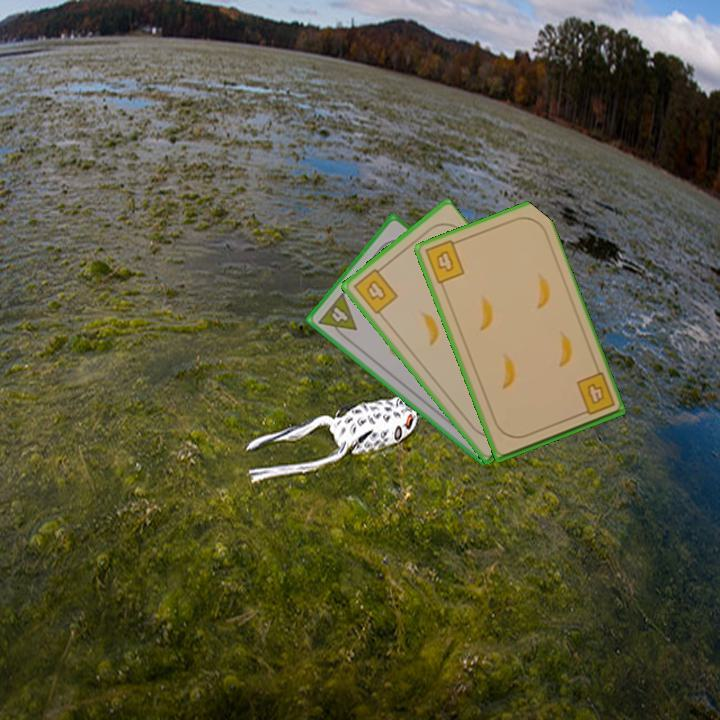4b: (350, 262, 401, 317), (421, 236, 467, 287), (572, 369, 618, 419)
4p: (314, 289, 360, 343)
